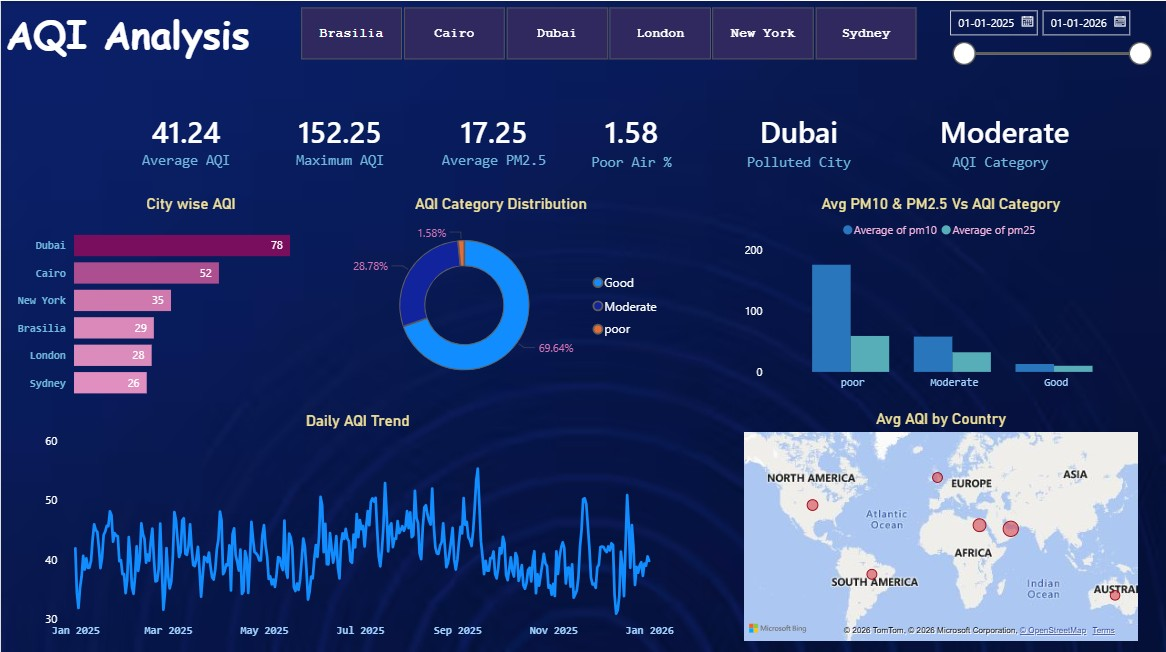

The page's visual inventory and layout, read from the dashboard file:
{"tool":"powerbi","page":{"name":"Page 1","canvas":[1280,720],"ordinal":0},"visuals":[{"type":"shape","box":[0,0,1280.3,71.4],"z":0},{"type":"slicer","fields":{"Values":["aqi air_quality.city"]},"box":[303.3,0,725.9,71.4],"z":1000},{"type":"cardVisual","fields":{"Data":["Avg(aqi air_quality.aqi)","Max(aqi air_quality.aqi)1","Avg(aqi air_quality.pm25)"]},"box":[105.7,104.3,533.8,97.4],"z":2000},{"type":"card","fields":{"Values":["aqi air_quality.Poor Air %"]},"box":[573.6,104.3,237.4,97.4],"z":3000},{"type":"card","fields":{"Values":["Min(aqi air_quality.city)"]},"box":[756.1,104.3,240.1,97.4],"z":4000},{"type":"barChart","title":"City wise AQI","fields":{"Y":["Avg(aqi air_quality.aqi)"],"Category":["aqi air_quality.city"]},"box":[12.3,212.7,392.5,236],"z":5000},{"type":"lineChart","title":"Daily AQI Trend","fields":{"Category":["aqi air_quality.date.Variation.Date Hierarchy.Year","aqi air_quality.date.Variation.Date Hierarchy.Quarter","aqi air_quality.date.Variation.Date Hierarchy.Month","aqi air_quality.date.Variation.Date Hierarchy.Day"],"Y":["Avg(aqi air_quality.aqi)"]},"box":[39.8,450.1,703.9,258],"z":6000},{"type":"donutChart","title":"AQI Category Distribution","fields":{"Category":["aqi air_quality.aqi_category"],"Y":["CountNonNull(aqi air_quality.aqi_category)"]},"box":[363.6,212.7,370.5,223.7],"z":7000},{"type":"lineClusteredColumnComboChart","title":"Avg PM10 & PM2.5 Vs AQI Category","fields":{"Category":["aqi air_quality.aqi_category"],"Y":["Avg(aqi air_quality.pm10)","Avg(aqi air_quality.pm25)"]},"box":[811,212.7,441.9,223.7],"z":8000},{"type":"card","fields":{"Values":["aqi air_quality.AQI Category kpi"]},"box":[1018.2,104.3,167.4,97.4],"z":9000},{"type":"slicer","fields":{"Values":["aqi air_quality.date"]},"box":[1029.2,0,242.9,71.4],"z":10000},{"type":"map","fields":{"Size":["aqi air_quality.Avg AQI"],"Category":["aqi air_quality.Country"]},"box":[811,448.7,441.9,259.3],"z":11000}]}

Visuals, with their boxes in screenshot pixels (x1, y1, x2, y2), scaled from the page's 1280x720 canvas onto the 1166x652 screenshot:
shape: detection(0, 0, 1165, 65)
slicer - aqi air_quality.city: detection(276, 0, 938, 65)
cardVisual - Avg(aqi air_quality.aqi) x Max(aqi air_quality.aqi)1: detection(96, 94, 583, 183)
card - aqi air_quality.Poor Air %: detection(523, 94, 739, 183)
card - Min(aqi air_quality.city): detection(689, 94, 907, 183)
"City wise AQI" barChart: detection(11, 193, 369, 406)
"Daily AQI Trend" lineChart: detection(36, 408, 677, 641)
"AQI Category Distribution" donutChart: detection(331, 193, 669, 395)
"Avg PM10 & PM2.5 Vs AQI Category" lineClusteredColumnComboChart: detection(739, 193, 1141, 395)
card - aqi air_quality.AQI Category kpi: detection(928, 94, 1080, 183)
slicer - aqi air_quality.date: detection(938, 0, 1159, 65)
map - aqi air_quality.Avg AQI x aqi air_quality.Country: detection(739, 406, 1141, 641)
